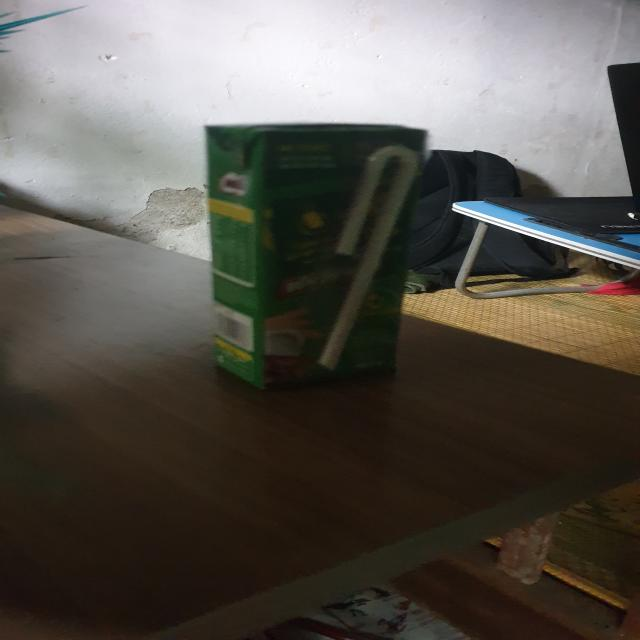Milo: (210, 125, 427, 395)
